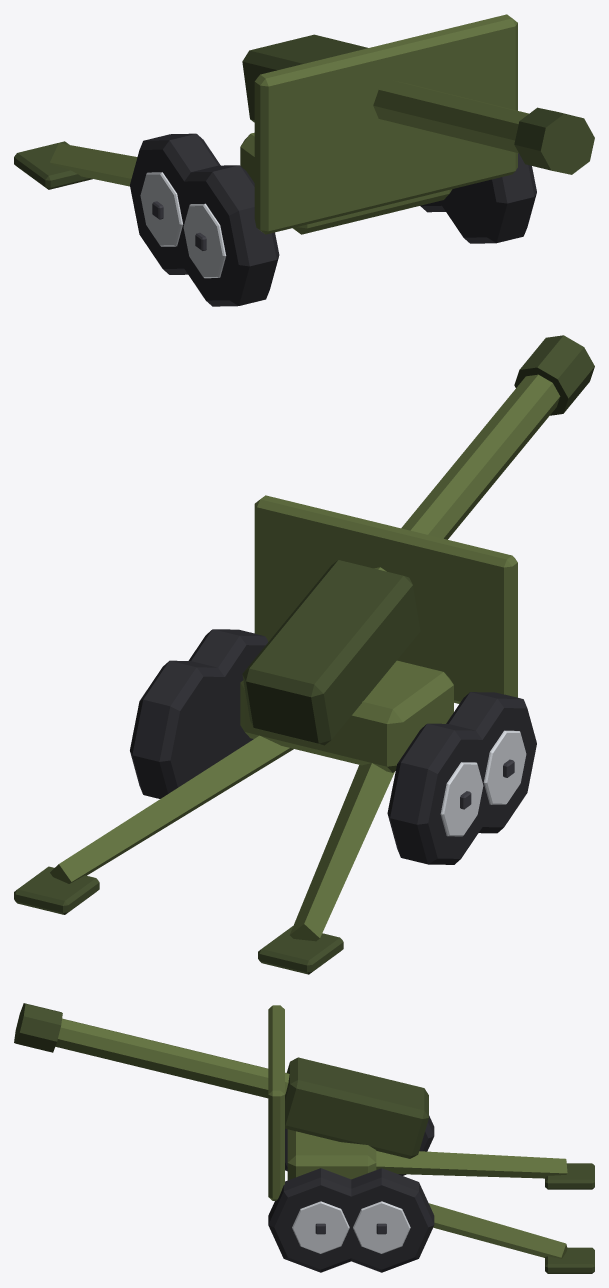
Rendered from Howitzer.fbx.
3 views of the same model, one above another, from view 1: azimuth 30°, elevation 25°; view 2: azimuth 150°, elevation 25°; view 3: azimuth 270°, elevation 25° (orthographic). The views are drawn at different scales.
Parts seen in each view (by area): view 1: Howitzer, Howitzer_Barrel, Howitzer_WheelFR, Howitzer_WheelBR, Howitzer_WheelFL; view 2: Howitzer, Howitzer_Barrel, Howitzer_WheelBR, Howitzer_WheelBL, Howitzer_WheelFR, Howitzer_WheelFL; view 3: Howitzer_Barrel, Howitzer, Howitzer_WheelBL, Howitzer_WheelFL.
Part boxes in pixels (x1,y1,x2,y2): Howitzer: [14, 14, 517, 234]; Howitzer_Barrel: [242, 34, 594, 174]; Howitzer_WheelFR: [178, 165, 279, 306]; Howitzer_WheelBR: [130, 133, 220, 274]; Howitzer_WheelFL: [440, 153, 536, 243]; Howitzer: [14, 495, 517, 974]; Howitzer_Barrel: [242, 335, 594, 745]; Howitzer_WheelBR: [387, 723, 488, 864]; Howitzer_WheelBL: [130, 660, 236, 798]; Howitzer_WheelFR: [446, 692, 536, 833]; Howitzer_WheelFL: [188, 629, 267, 755]; Howitzer_Barrel: [14, 1003, 428, 1158]; Howitzer: [268, 1005, 594, 1273]; Howitzer_WheelBL: [342, 1168, 434, 1272]; Howitzer_WheelFL: [268, 1168, 359, 1272].
Size of the model in its own units: 4.62 by 4.38 by 10.49.
1 material, 1 textured.
